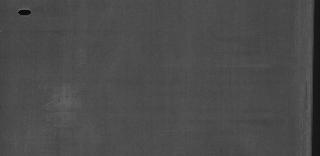punching hole: (16, 7, 34, 17)
